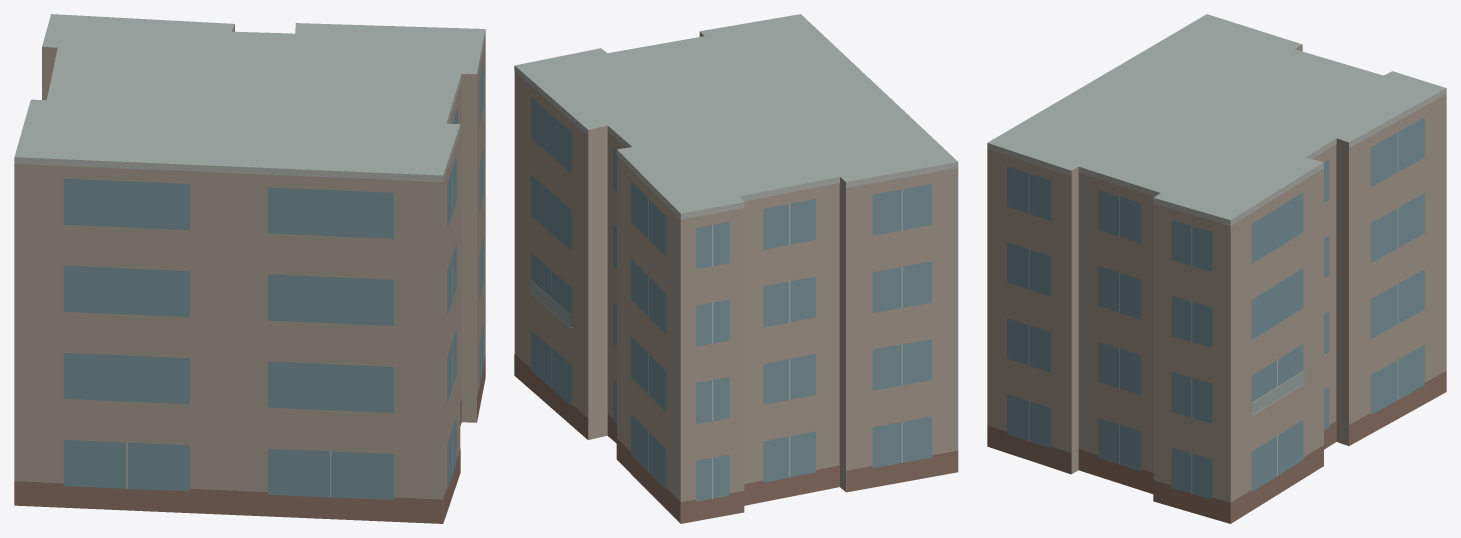
File: survey-upis-32912195.glb
3 renders of one model, left to right at view 1: azimuth 30°, elevation 25°; view 2: azimuth 150°, elevation 25°; view 3: azimuth 270°, elevation 25°, orthographic. The views are drawn at different scales.
Visible parts, largest first — view 1: survey-upis-32912195.tmp; view 2: survey-upis-32912195.tmp; view 3: survey-upis-32912195.tmp.
Boxes of the visible parts, <box> form: survey-upis-32912195.tmp: <box>14,14,485,523</box>; survey-upis-32912195.tmp: <box>514,14,958,523</box>; survey-upis-32912195.tmp: <box>987,14,1446,523</box>.
Bounding box in the file's own units: 18.66 × 12.81 × 17.57.
